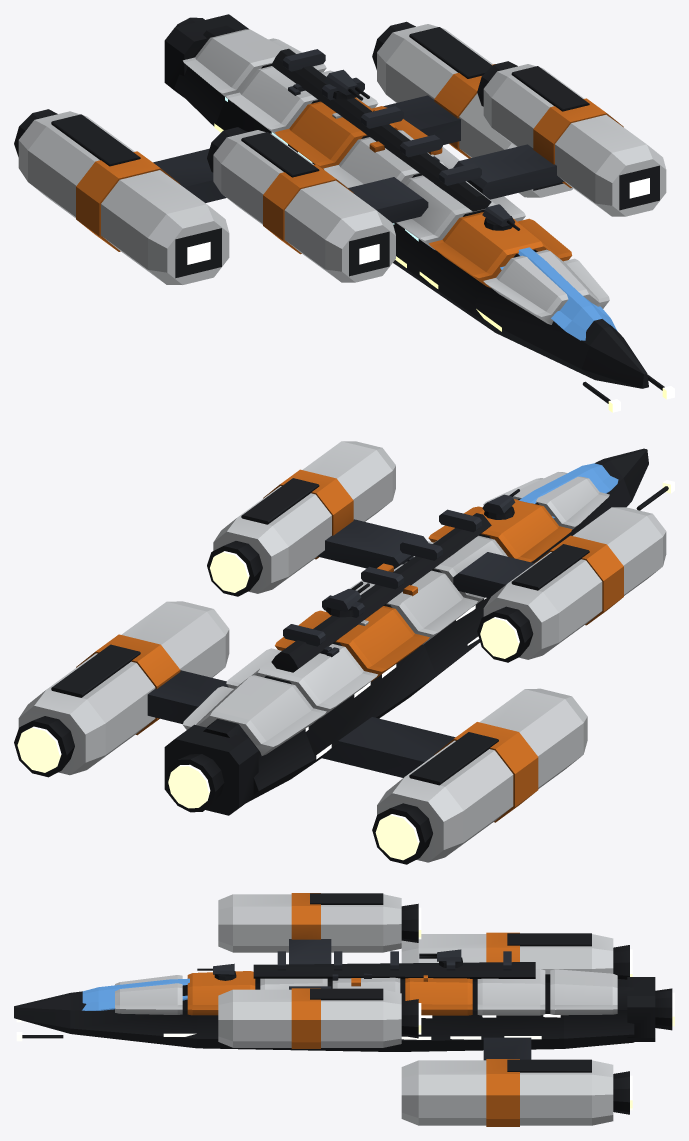
The model's file is engineer.glb.
3 views of the same model, one above another, from view 1: azimuth 30°, elevation 25°; view 2: azimuth 150°, elevation 25°; view 3: azimuth 270°, elevation 25° (orthographic). The views are drawn at different scales.
Parts seen in each view (by area): view 1: hull_engineer; view 2: hull_engineer; view 3: hull_engineer.
Part boxes in pixels (x1=…): hull_engineer: x1=14, y1=14, x2=674, y2=412; hull_engineer: x1=14, y1=441, x2=674, y2=864; hull_engineer: x1=14, y1=893, x2=674, y2=1126.
Bounding box in the file's own units: 25.99 × 8.68 × 46.88.
